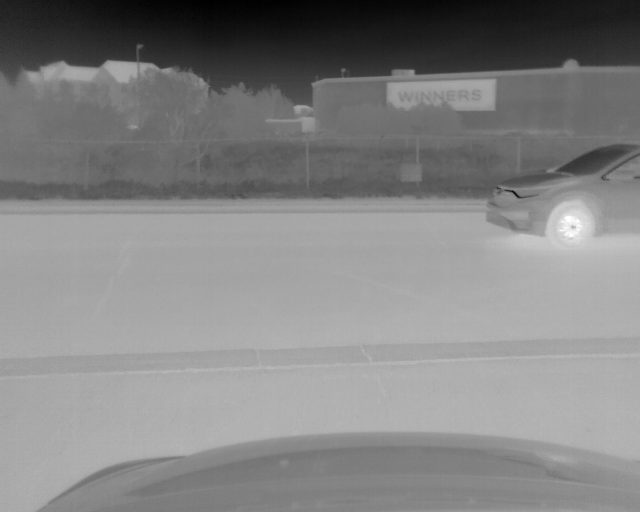car: (485, 142, 640, 247)
